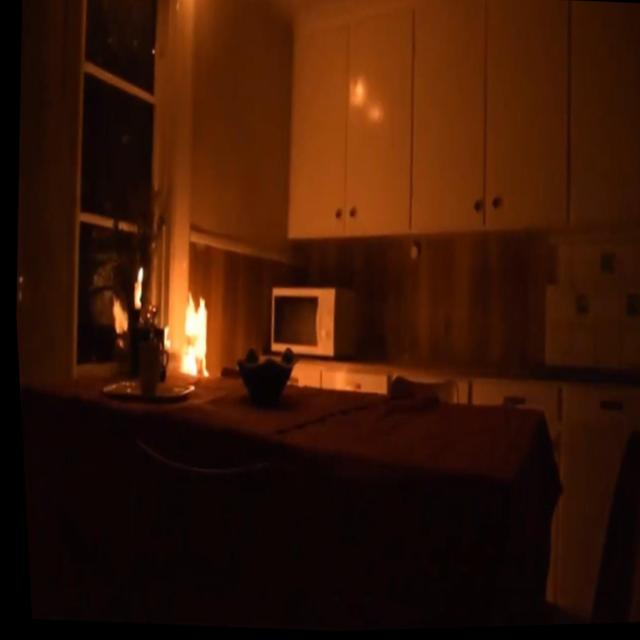fire: (168, 282, 215, 386), (131, 264, 145, 285)
